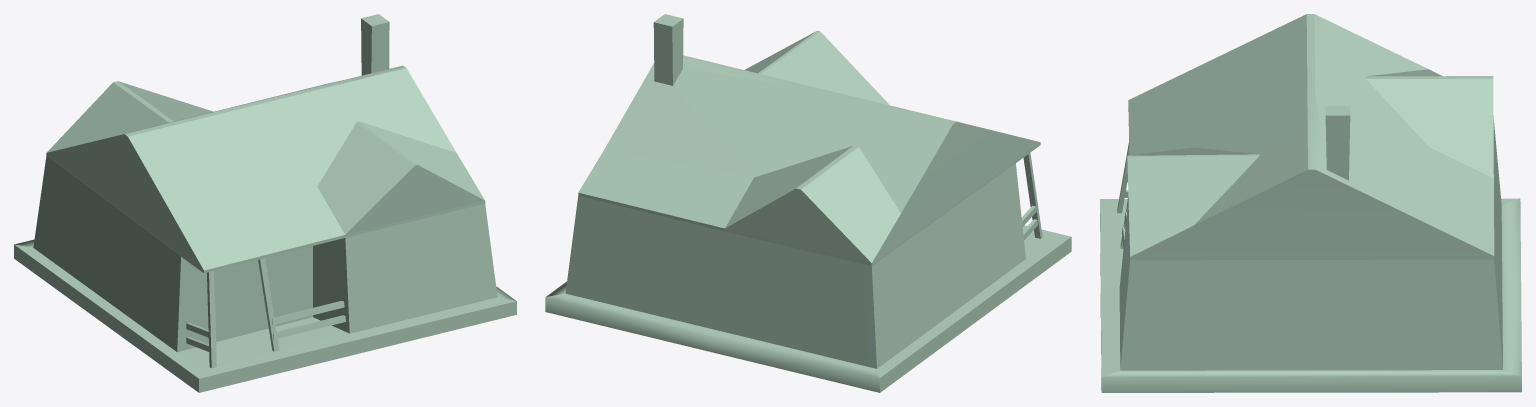
File: housetest 1.fbx
3 views of the same model, side by side, from view 1: azimuth 30°, elevation 25°; view 2: azimuth 150°, elevation 25°; view 3: azimuth 270°, elevation 25° (orthographic). The views are drawn at different scales.
Parts seen in each view (by area): view 1: polySurface5; view 2: polySurface5; view 3: polySurface5.
Boxes of the visible parts, x1=… form: polySurface5: x1=14, y1=14, x2=516, y2=392; polySurface5: x1=545, y1=14, x2=1071, y2=392; polySurface5: x1=1100, y1=14, x2=1521, y2=392.
Size of the model in its own units: 631 by 431 by 631.
